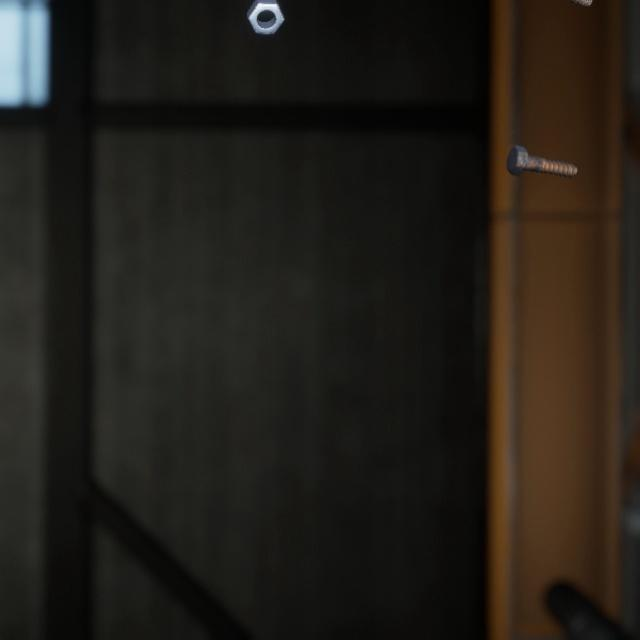bolt: (502, 126, 582, 169)
nut: (242, 0, 289, 30)
